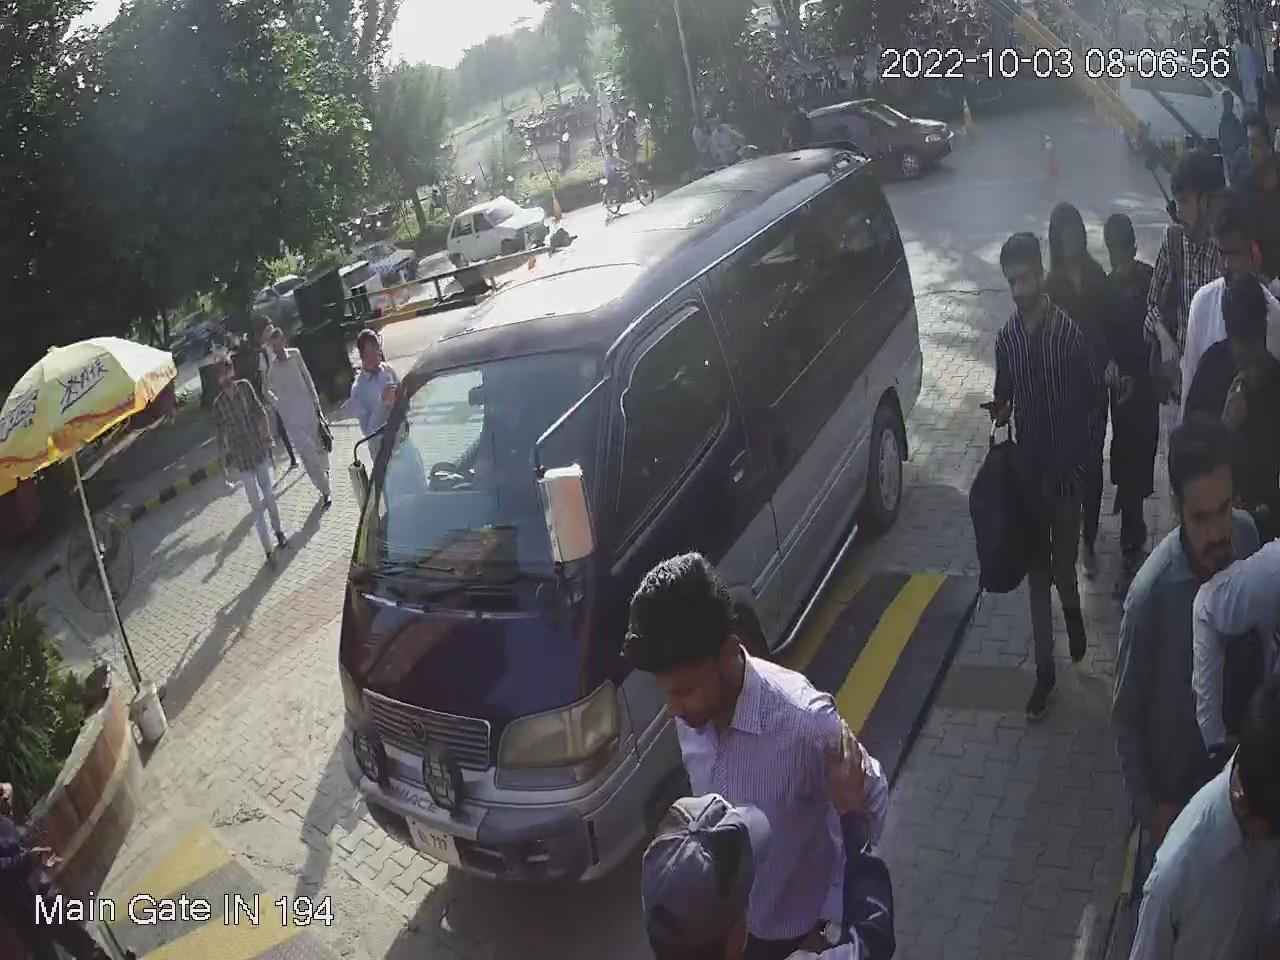windshield: (351, 335, 611, 578)
